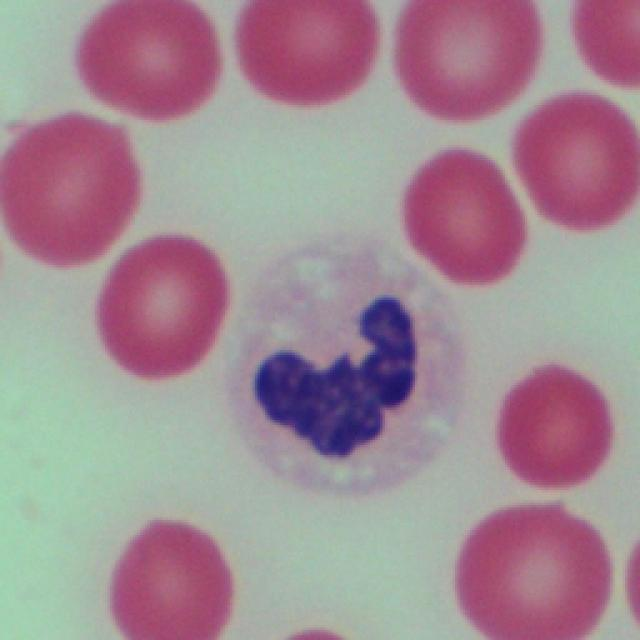RBC: (452, 487, 609, 640), (0, 105, 133, 280), (95, 225, 226, 385), (395, 136, 521, 297), (380, 2, 535, 132), (511, 88, 638, 242), (66, 0, 220, 124), (490, 350, 614, 500), (222, 2, 380, 118), (103, 509, 234, 638), (565, 0, 640, 88)
WBC: (261, 278, 418, 469)
